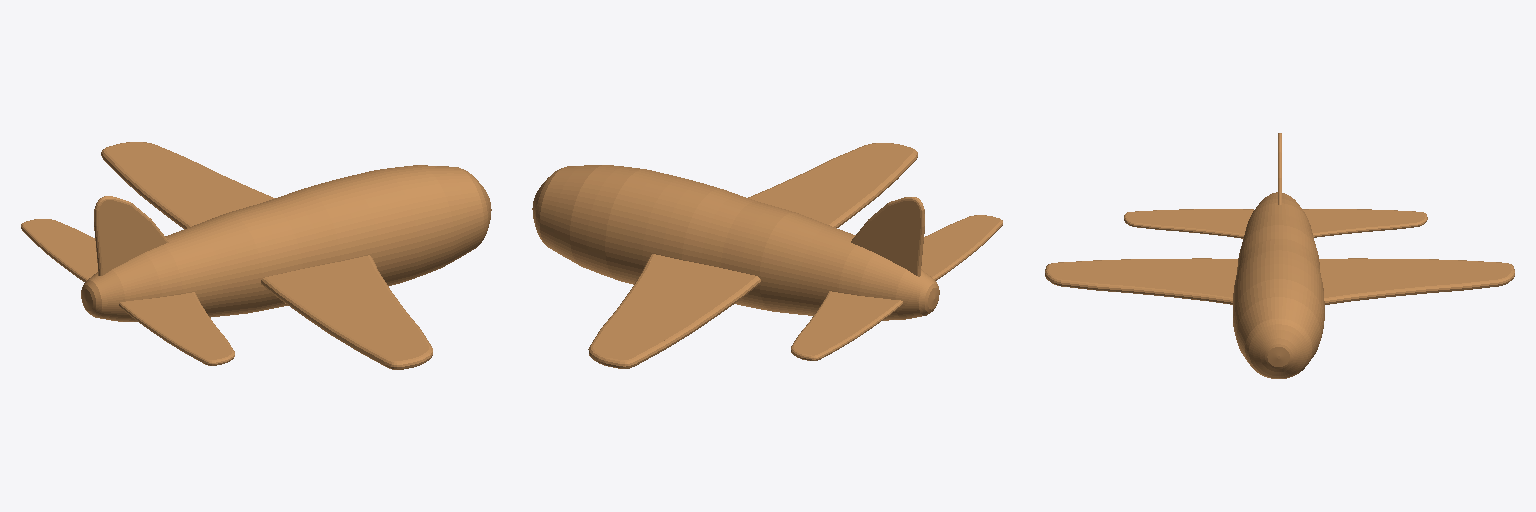
The robot description file, URDF, robot "airplane":
<?xml version="1.0"?>
                <robot name="airplane">
                <link name="base_link">
                    <visual>
                    <geometry>
                        <mesh filename="top_watertight_tiny.stl" scale="1.0 1.0 1.0"/>
                    </geometry>
                    <material name="object_material">
                        <color rgba="0.8 0.6 0.4 1.0"/>
                    </material>
                    </visual>
                    <collision>
                    <geometry>
                        <mesh filename="top_watertight_tiny.stl" scale="1.0 1.0 1.0"/>
                    </geometry>
                    </collision>
                    <inertial>
                    <mass value="1.0"/>
                    <inertia ixx="1.0" ixy="0.0" ixz="0.0" iyy="1.0" iyz="0.0" izz="1.0"/>
                    </inertial>
                </link>
                </robot>

--- What the picture shows (computed from the rendered views, not written in the file) ---
Views: 3 orthographic renders of the robot side by side, from view 1: azimuth 30°, elevation 25°; view 2: azimuth 150°, elevation 25°; view 3: azimuth 270°, elevation 25°.
Model airplane with 1 links and 0 joints (none), rooted at base_link, posed every joint at zero.
Visible links, largest first — view 1: base_link; view 2: base_link; view 3: base_link.
Boxes of the visible links, <box> form: base_link: <box>21,142,491,369</box>; base_link: <box>532,143,1002,368</box>; base_link: <box>1045,133,1514,378</box>.
Size in the robot's own frame: 0.138 by 0.1784 by 0.05 metres.
1 mesh visuals loaded from 1 distinct referenced files (1 binary STL).